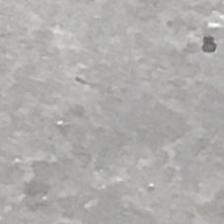Non_Crack: (34, 32, 213, 200)
